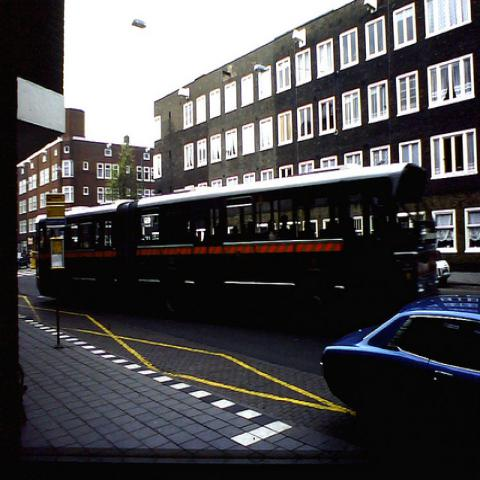bus: (38, 161, 438, 324)
car: (319, 295, 479, 452), (434, 250, 451, 286), (18, 251, 24, 269)
